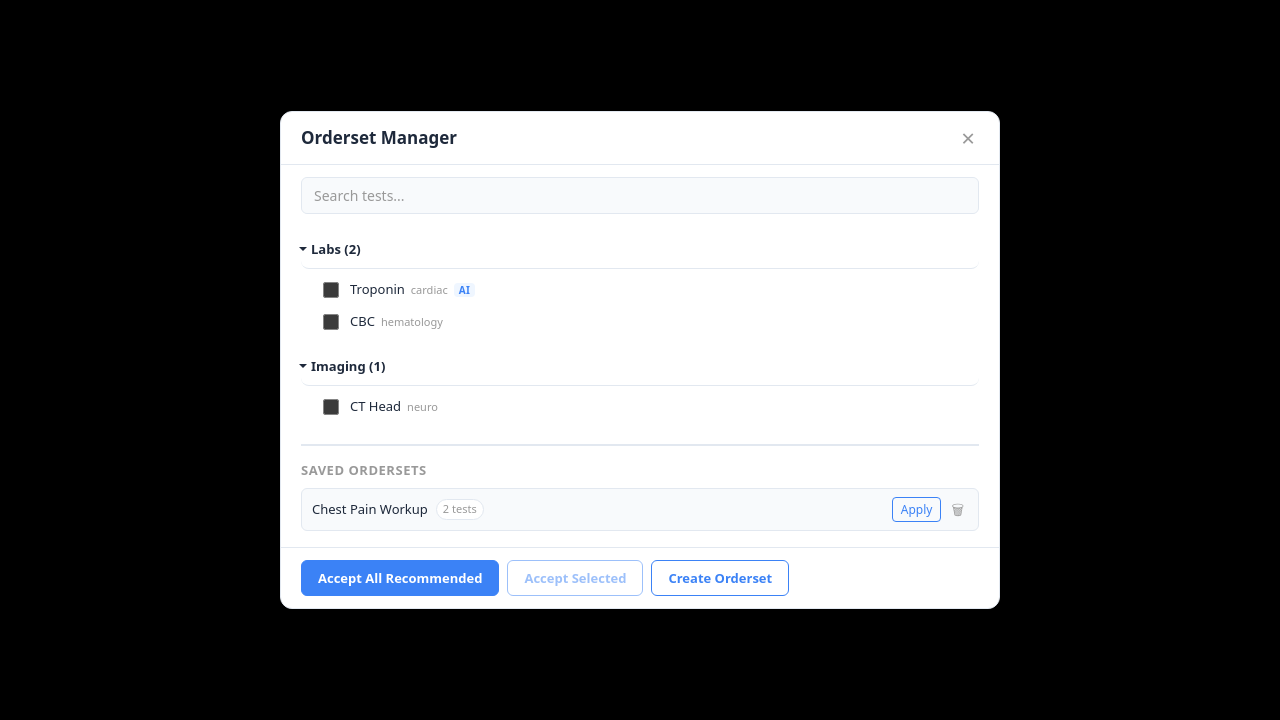
Test: OrdersetManager › filters tests by search query
The image size is (1280, 720).
Type "troponin" into the field with placeholder "Search tests...".
click(640, 195); type("troponin")  # box [301,177,979,214]
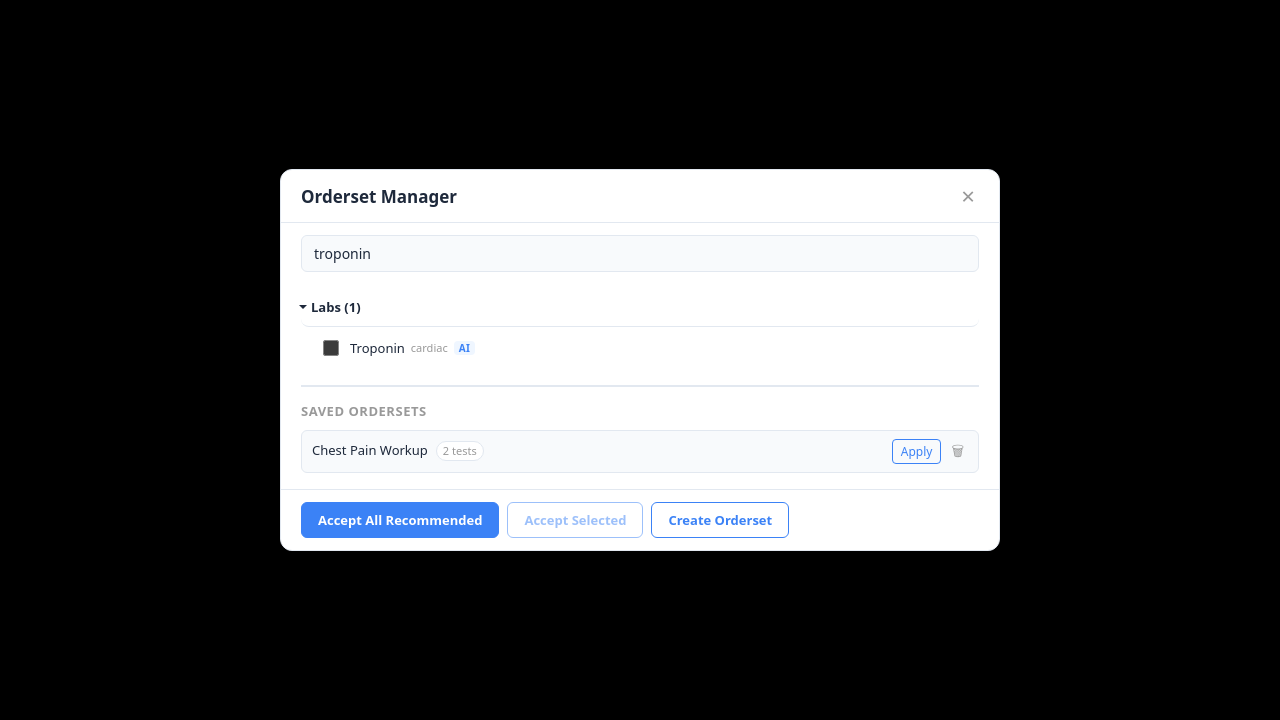
Expected: the text "Troponin" is shown, [350,339,405,358]
Expected: the text "CBC" is gone
Expected: the text "CT Head" is gone
